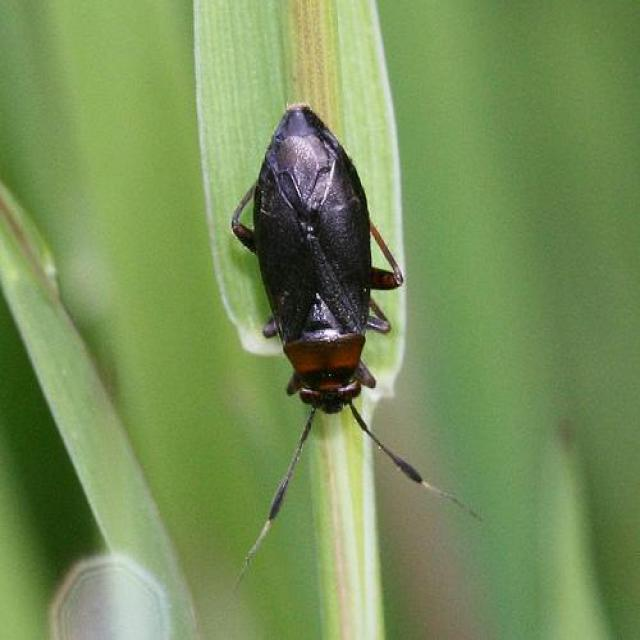Miridae-Adult-: (173, 86, 494, 574)
